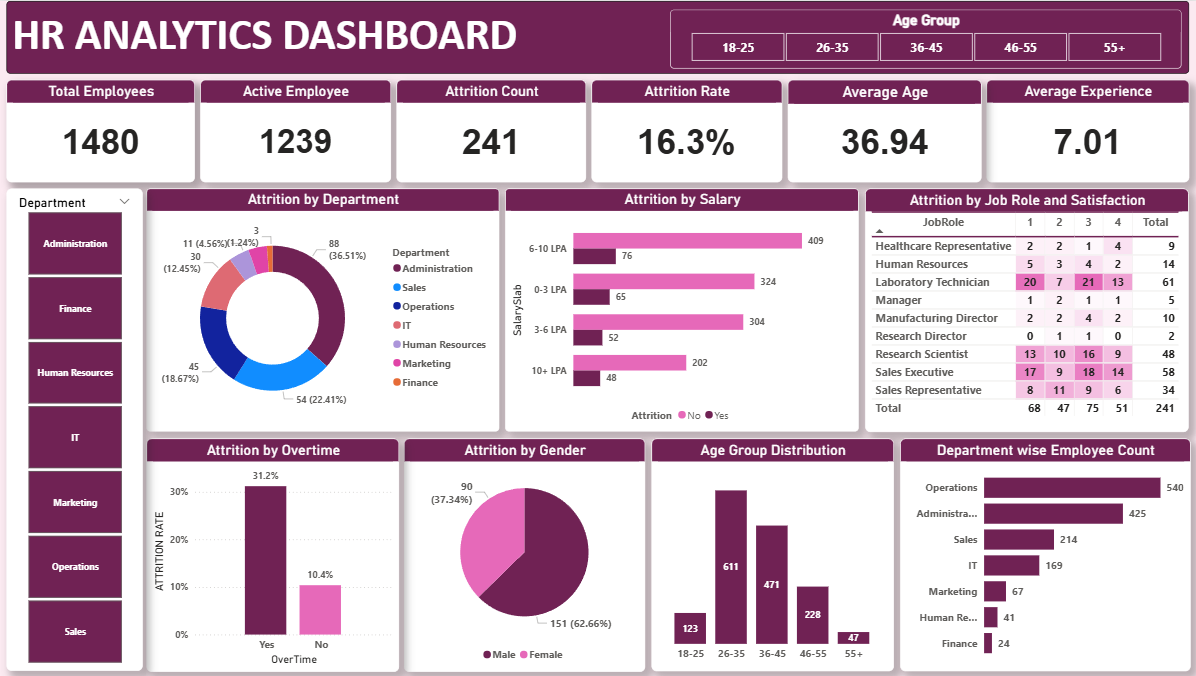

The dashboard page shown, as its layout file describes it:
{"tool":"powerbi","page":{"name":"Page 2","canvas":[1600,903],"ordinal":0},"visuals":[{"type":"textbox","box":[10,0,1577.1,97.1],"z":0},{"type":"card","title":"Total Employees","fields":{"Values":["HR_Analytics (1).Total Employees"]},"box":[10,104.3,251.4,137.1],"z":1000},{"type":"card","title":"Active Employee","fields":{"Values":["HR_Analytics (1).Active Employees"]},"box":[268.6,104.3,254,137.1],"z":2000},{"type":"card","title":"Attrition Count","fields":{"Values":["HR_Analytics (1).ATTRITION COUNT"]},"box":[530,104.3,253,137.1],"z":3000},{"type":"card","title":"Attrition Rate","fields":{"Values":["HR_Analytics (1).ATTRITION RATE"]},"box":[790,104.3,254,137.1],"z":4000},{"type":"card","title":"Average Experience","fields":{"Values":["HR_Analytics (1).AVERAGE EXPERIENCE"]},"box":[1317.1,104.3,270,137],"z":5000},{"type":"card","title":"Average Age","fields":{"Values":["Avg(HR_Analytics (1).Age)"]},"box":[1051.4,104.3,258.6,137.1],"z":6000},{"type":"donutChart","title":" Attrition by Department ","fields":{"Category":["HR_Analytics (1).Department"],"Y":["HR_Analytics (1).ATTRITION COUNT"]},"box":[197.1,250,470,324.3],"z":7000},{"type":"clusteredBarChart","title":"Attrition by Salary","fields":{"Category":["HR_Analytics (1).SalarySlab"],"Y":["Sum(HR_Analytics (1).EmployeeCount)"],"Series":["HR_Analytics (1).Attrition"]},"box":[675.7,250,471.4,324.3],"z":8000},{"type":"pivotTable","title":"Attrition by Job Role and Satisfaction","fields":{"Rows":["HR_Analytics (1).JobRole"],"Columns":["HR_Analytics (1).JobSatisfaction"],"Values":["HR_Analytics (1).ATT_COUNT"]},"box":[1155.7,250,431.4,325],"z":9000},{"type":"pieChart","title":" Attrition by Gender","fields":{"Category":["HR_Analytics (1).Gender"],"Y":["HR_Analytics (1).ATTRITION COUNT"]},"box":[540,582.9,321.4,311.4],"z":10000},{"type":"clusteredColumnChart","title":" Age Group Distribution","fields":{"Category":["HR_Analytics (1).AgeGroup"],"Y":["CountNonNull(HR_Analytics (1).AgeGroup)"]},"box":[870,582.9,322.9,310],"z":11000},{"type":"clusteredColumnChart","title":" Attrition by Overtime","fields":{"Category":["HR_Analytics (1).OverTime"],"Y":["HR_Analytics (1).ATTRITION RATE"]},"box":[197.1,582.9,337.1,311.4],"z":12000},{"type":"barChart","title":"Department wise Employee Count","fields":{"Category":["HR_Analytics (1).Department"],"Y":["CountNonNull(HR_Analytics (1).EmployeeCount)"]},"box":[1201.4,582.9,387.1,310],"z":13000},{"type":"slicer","fields":{"Values":["HR_Analytics (1).Department"]},"box":[10,250,181.4,642.9],"z":14000},{"type":"slicer","title":"Age Group","fields":{"Values":["HR_Analytics (1).AgeGroup"]},"box":[894.3,11.4,681.4,78],"z":15000}]}

Visuals, with their boxes in screenshot pixels (x1, y1, x2, y2), scaled from the page's 1600x903 canvas onto the 1196x676 screenshot:
textbox: Rect(7, 0, 1186, 73)
"Total Employees" card: Rect(7, 78, 195, 181)
"Active Employee" card: Rect(201, 78, 391, 181)
"Attrition Count" card: Rect(396, 78, 585, 181)
"Attrition Rate" card: Rect(591, 78, 780, 181)
"Average Experience" card: Rect(985, 78, 1186, 181)
"Average Age" card: Rect(786, 78, 979, 181)
" Attrition by Department " donutChart: Rect(147, 187, 499, 430)
"Attrition by Salary" clusteredBarChart: Rect(505, 187, 857, 430)
"Attrition by Job Role and Satisfaction" pivotTable: Rect(864, 187, 1186, 430)
" Attrition by Gender" pieChart: Rect(404, 436, 644, 669)
" Age Group Distribution" clusteredColumnChart: Rect(650, 436, 892, 668)
" Attrition by Overtime" clusteredColumnChart: Rect(147, 436, 399, 669)
"Department wise Employee Count" barChart: Rect(898, 436, 1187, 668)
slicer - HR_Analytics (1).Department: Rect(7, 187, 143, 668)
"Age Group" slicer: Rect(668, 9, 1178, 67)
